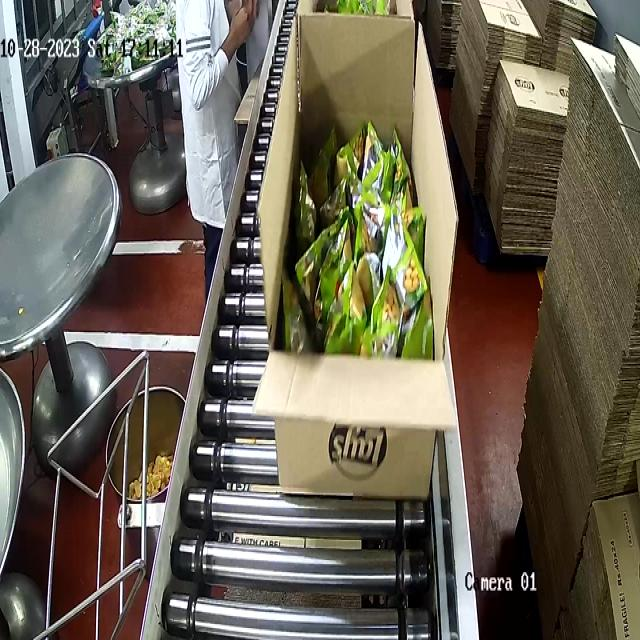YOGURT_HERB: (296, 115, 432, 361)
